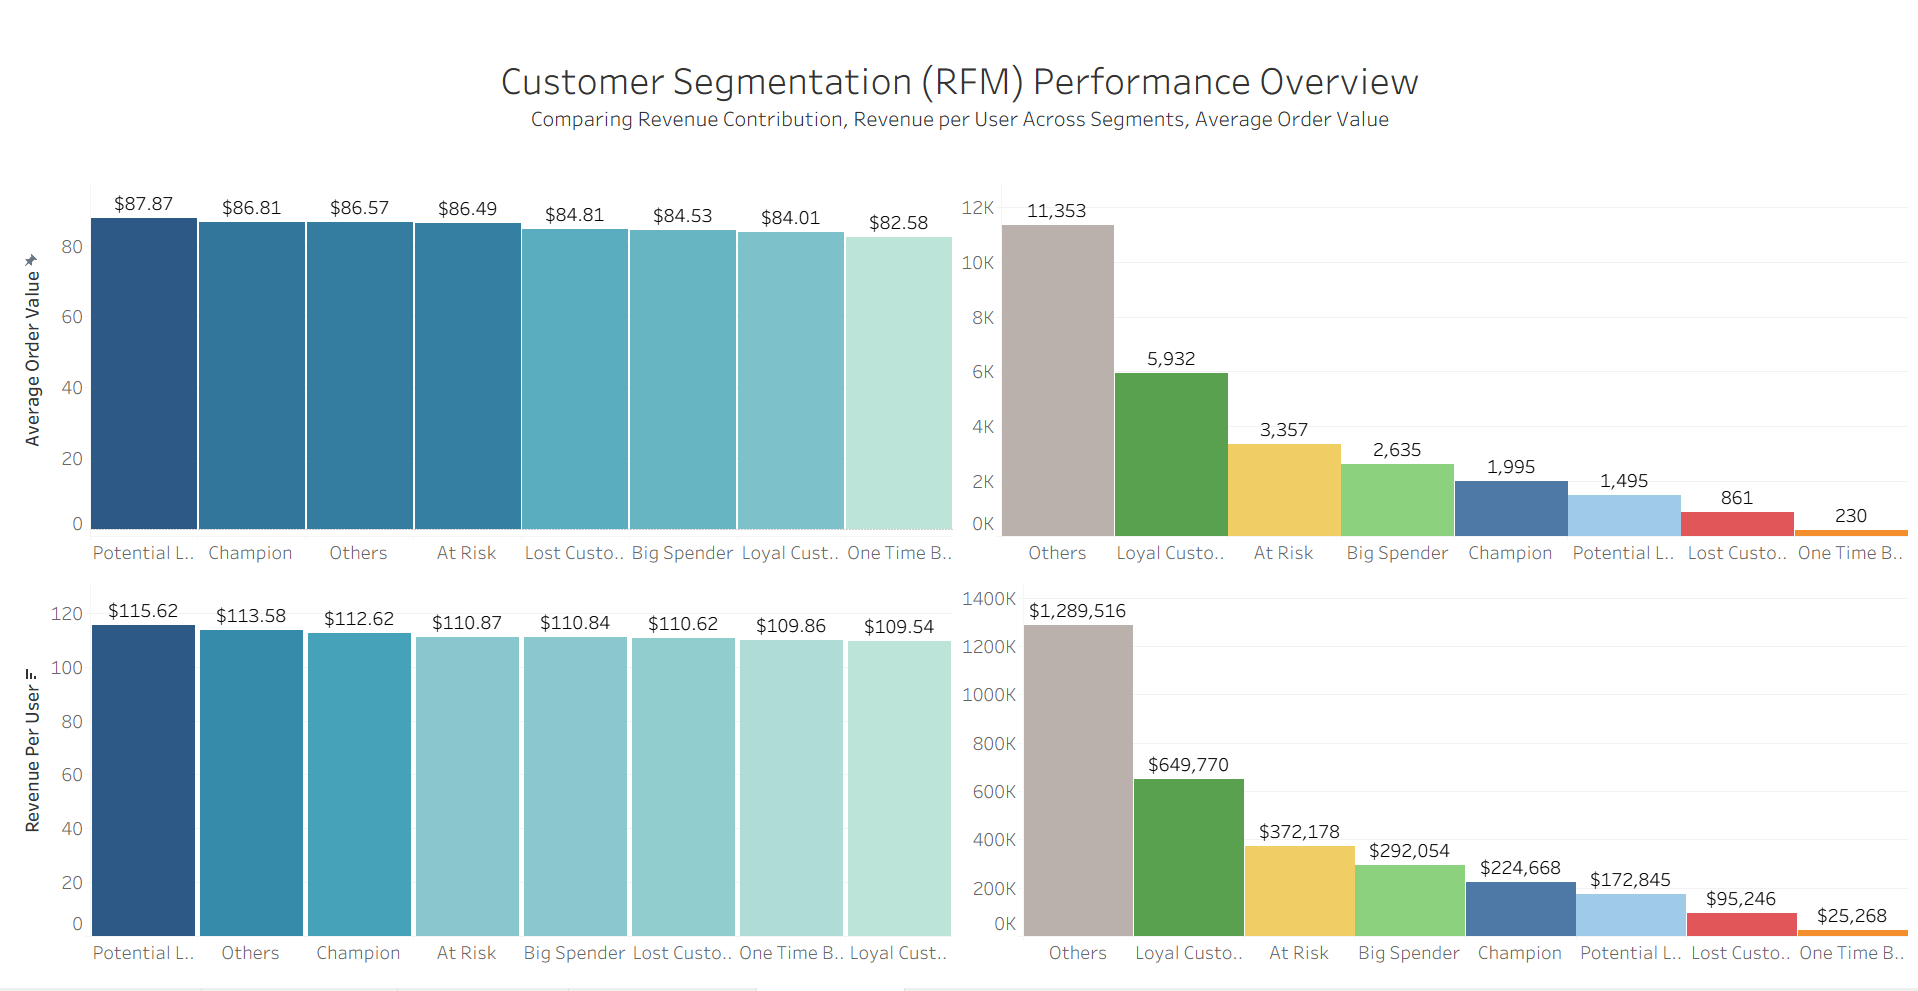

What the dashboard file says about the page in this screenshot:
{"tool":"tableau","page":{"name":"Dashboard 1","canvas":[1000,1000],"units":"permille","ordinal":0},"visuals":[{"type":"text","box":[5,9.2,990,174.3]},{"type":"worksheet","title":"Average Order Value","mark":"Automatic","rows":["Calculation_2341590369450135552"],"cols":["customer_segment"],"box":[5,183.5,493.3,403.5]},{"type":"worksheet","title":"Segment Countplot","mark":"Automatic","rows":["customer_segment"],"cols":["customer_segment"],"box":[498.3,183.5,496.7,403.6]},{"type":"worksheet","title":"Revenue Per User","mark":"Automatic","rows":["Calculation_2341590369450295297"],"cols":["customer_segment"],"box":[5,587,493.3,403.7]},{"type":"worksheet","title":"Revenue by Segment","mark":"Automatic","rows":["total_spent"],"cols":["customer_segment"],"box":[498.3,587.1,496.7,403.6]}]}

Visuals, with their boxes on the dashboard's canvas, which has no fixed pixel size, in thousandths of its width and height (x1, y1, x2, y2). These are canvas units, not pixel positions in the 1918x991 screenshot, which may show the page scaled, cropped or inside an application window:
text: (5, 9, 995, 184)
"Average Order Value" worksheet: (5, 184, 498, 587)
"Segment Countplot" worksheet: (498, 184, 995, 587)
"Revenue Per User" worksheet: (5, 587, 498, 991)
"Revenue by Segment" worksheet: (498, 587, 995, 991)
